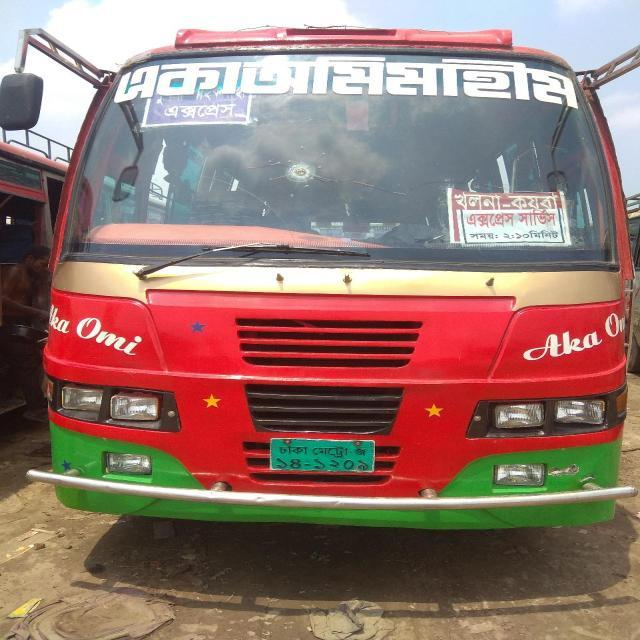numberplate: (268, 436, 375, 473)
